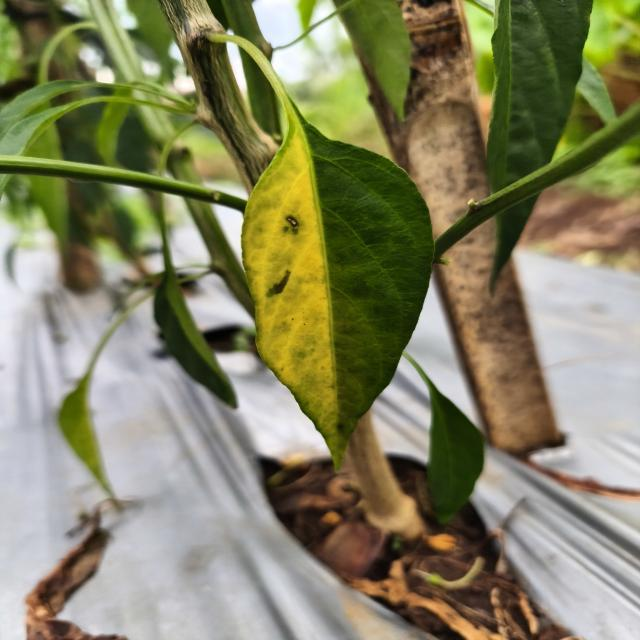Virus Kuning: (239, 122, 436, 473)
